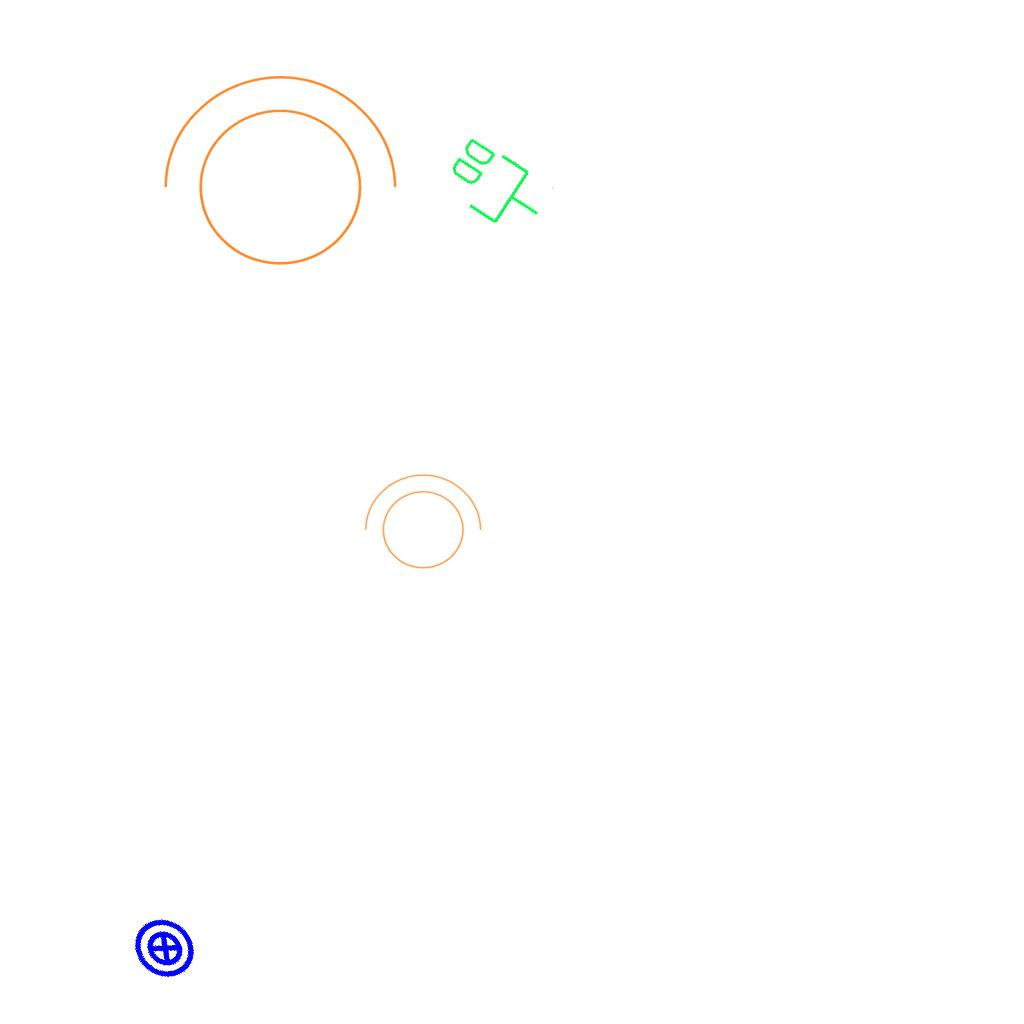Datenanschluss_zweifach: (434, 129, 559, 244)
Scheinwerfer_fuer_Alarmbeleuchtung: (142, 65, 406, 290), (354, 469, 486, 581)
Taster_beleuchtet: (118, 901, 212, 995)
